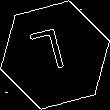L_S: (33, 27, 77, 83)
